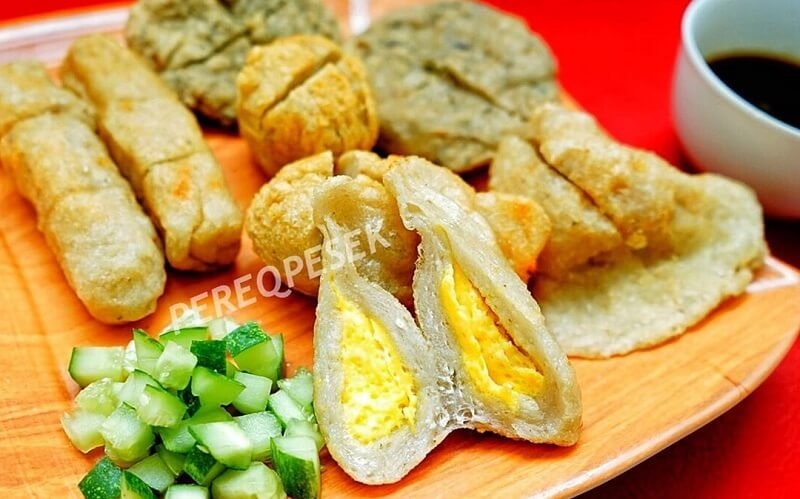pempek: (1, 1, 774, 480)
